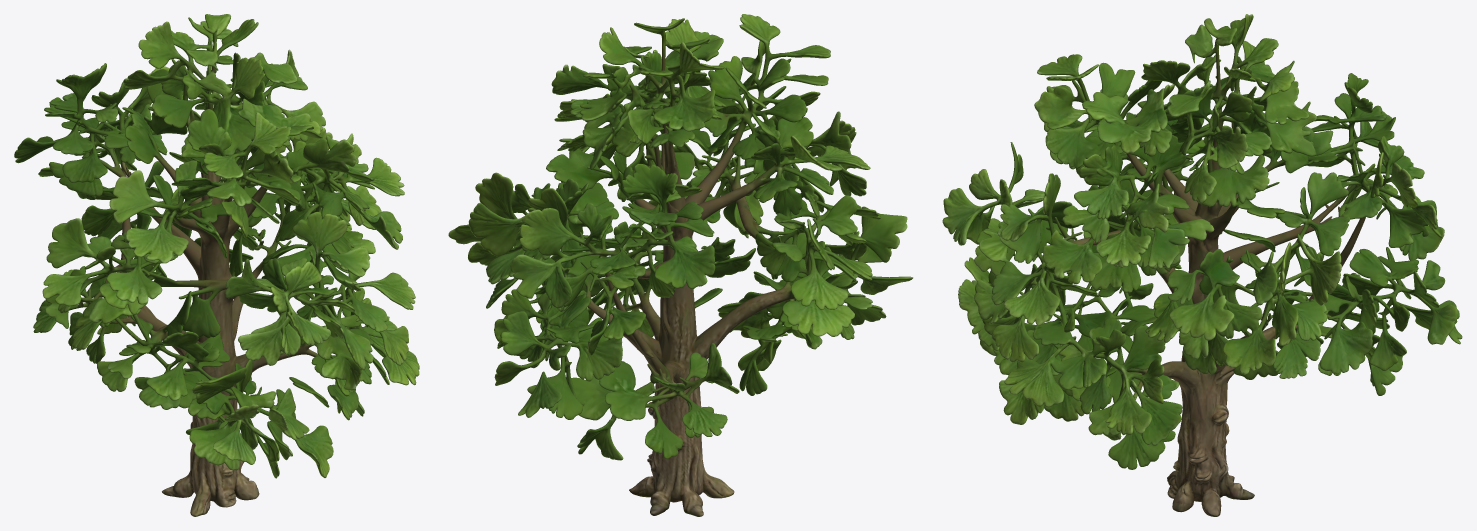
Rendered from ginkgo-tree.glb.
3 views of the same model, side by side, from view 1: azimuth 30°, elevation 25°; view 2: azimuth 150°, elevation 25°; view 3: azimuth 270°, elevation 25° (orthographic). The views are drawn at different scales.
Parts seen in each view (by area): view 1: tripo_node_b8aeeda3-15a9-4539-ad9d-76555f79cd8f; view 2: tripo_node_b8aeeda3-15a9-4539-ad9d-76555f79cd8f; view 3: tripo_node_b8aeeda3-15a9-4539-ad9d-76555f79cd8f.
Part boxes in pixels (box(x1,y1,x2,y2)): tripo_node_b8aeeda3-15a9-4539-ad9d-76555f79cd8f: box(14, 14, 419, 516); tripo_node_b8aeeda3-15a9-4539-ad9d-76555f79cd8f: box(448, 14, 913, 516); tripo_node_b8aeeda3-15a9-4539-ad9d-76555f79cd8f: box(942, 14, 1462, 516).
Size of the model in its own units: 0.7793 by 0.9793 by 0.9691.
1 material, 1 textured.
